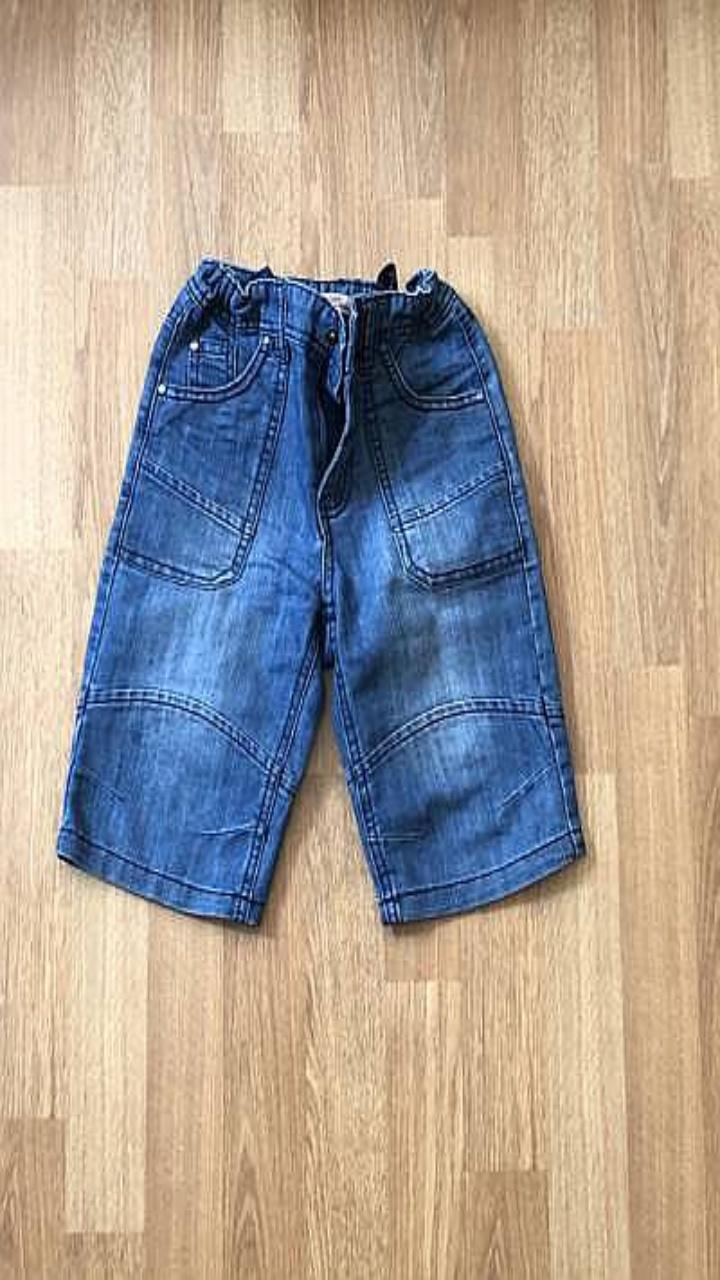Shorts: (57, 258, 584, 924)
